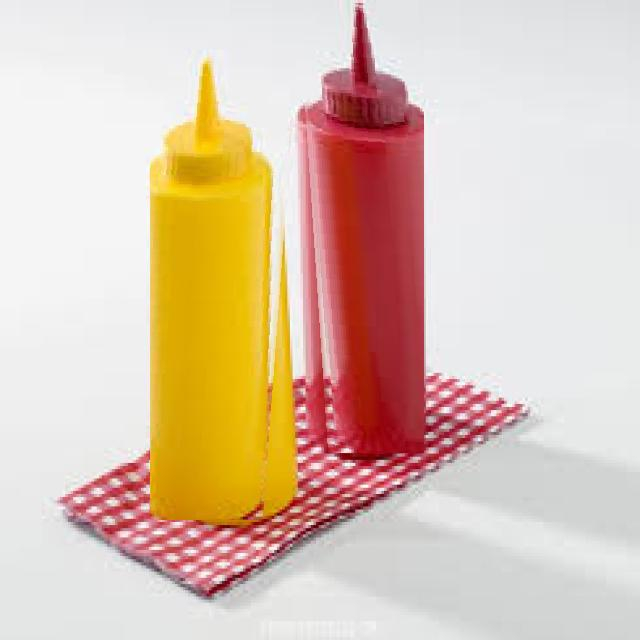plastic bottle: (150, 54, 297, 520), (298, 0, 424, 453)
